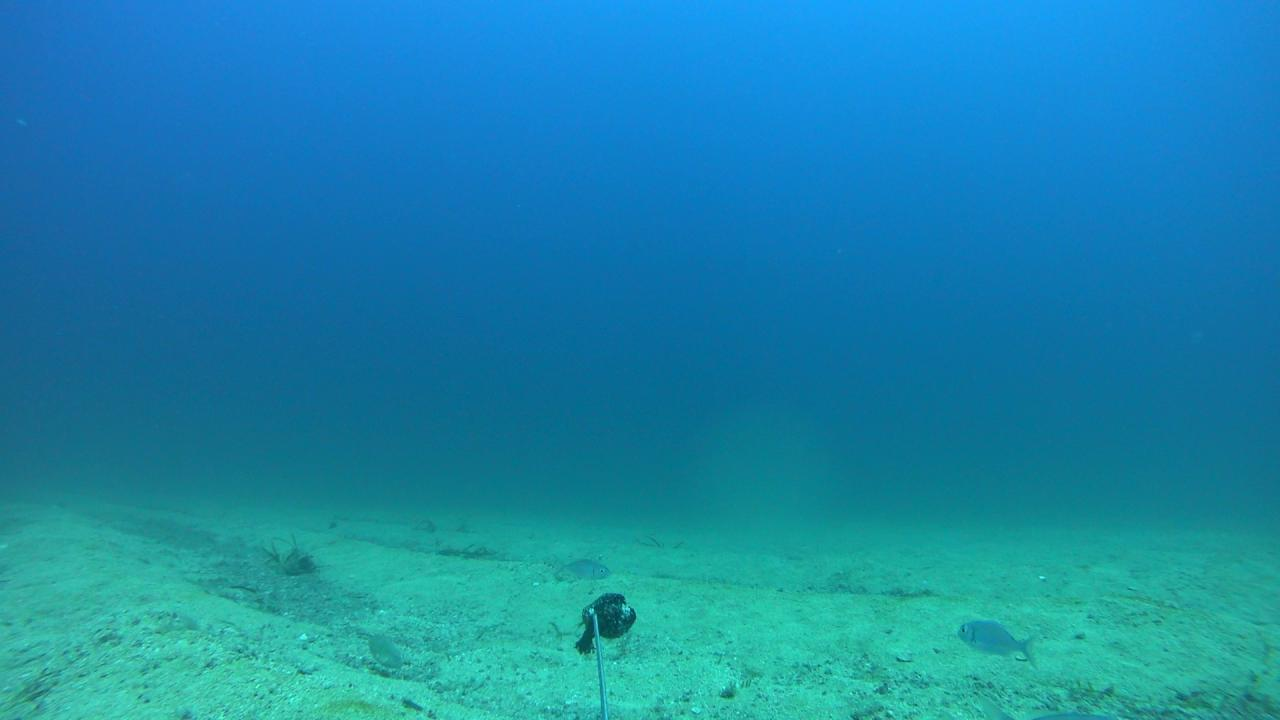pagellus: (958, 618, 1036, 665), (551, 556, 609, 579)
